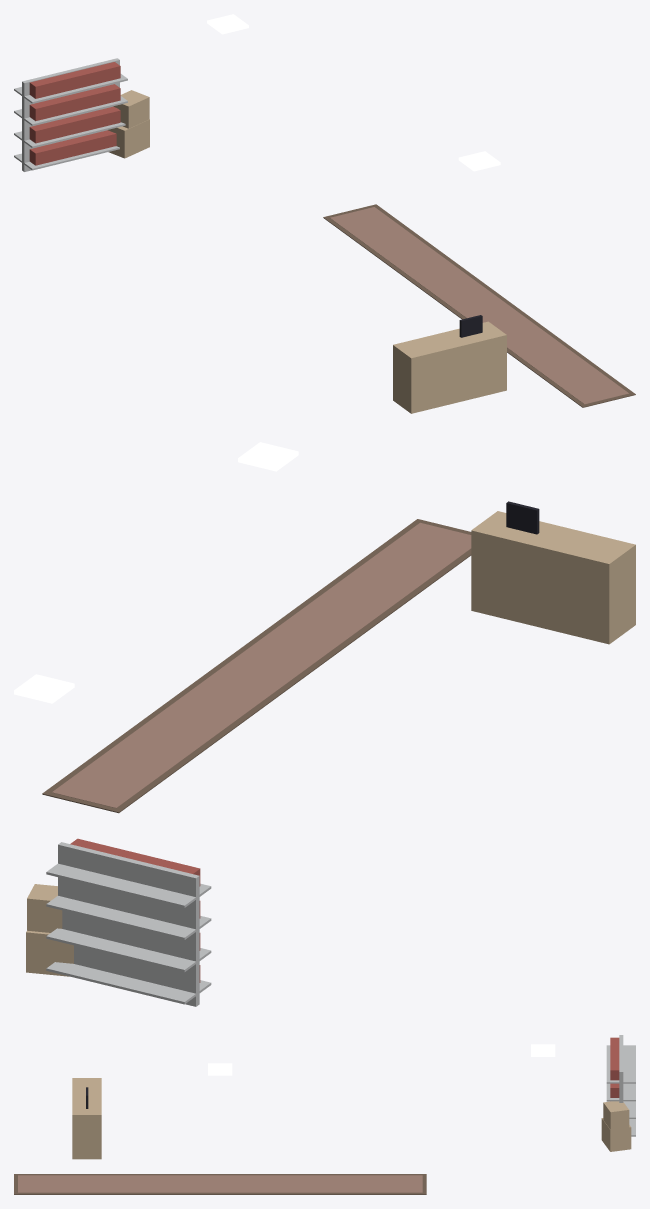
The model's file is fine-s0.glb.
3 renders of one model, top to bottom at view 1: azimuth 30°, elevation 25°; view 2: azimuth 150°, elevation 25°; view 3: azimuth 270°, elevation 25°, orthographic. The views are drawn at different scales.
Parts seen in each view (by area): view 1: soft-s0, shelving.000, shop-counter.000, cardboard-box.000; view 2: soft-s0, shelving.000, shop-counter.000, cardboard-box.000, ceiling-lamp.000, ceiling-lamp.001; view 3: soft-s0, shop-counter.000, shelving.000, cardboard-box.000, ceiling-lamp.000, ceiling-lamp.001.
Boxes of the visible parts, box(x1,y1,x2,y2) form: soft-s0: box(323, 204, 635, 407); shelving.000: box(14, 58, 127, 171); shop-counter.000: box(393, 315, 506, 413); cardboard-box.000: box(108, 90, 149, 158); soft-s0: box(42, 519, 471, 813); shelving.000: box(46, 838, 211, 1006); shop-counter.000: box(471, 501, 635, 644); cardboard-box.000: box(26, 884, 73, 976); ceiling-lamp.000: box(238, 442, 298, 471); ceiling-lamp.001: box(14, 674, 74, 703); soft-s0: box(14, 1174, 426, 1194); shop-counter.000: box(72, 1078, 101, 1159); shelving.000: box(606, 1035, 635, 1136); cardboard-box.000: box(601, 1101, 631, 1151); ceiling-lamp.000: box(208, 1063, 232, 1075); ceiling-lamp.001: box(531, 1044, 555, 1056).
Size of the model in its own units: 4.34 by 2.64 by 12.77.
